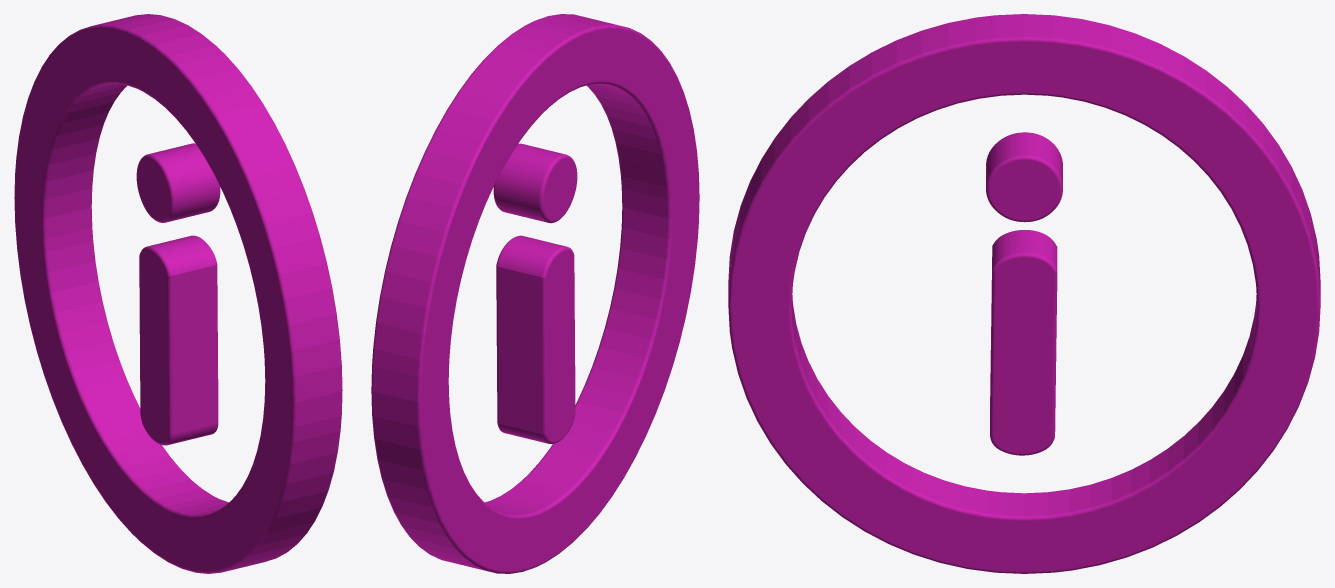
The model's file is Icko.fbx.
3 views of the same model, side by side, from view 1: azimuth 30°, elevation 25°; view 2: azimuth 150°, elevation 25°; view 3: azimuth 270°, elevation 25° (orthographic). The views are drawn at different scales.
Visible parts, largest first — view 1: Icko; view 2: Icko; view 3: Icko.
Boxes of the visible parts, bbox=[...] form: Icko: bbox=[14, 14, 342, 573]; Icko: bbox=[371, 14, 699, 573]; Icko: bbox=[728, 14, 1320, 573].
Bounding box in the file's own units: 1.7 × 16.65 × 16.65.
